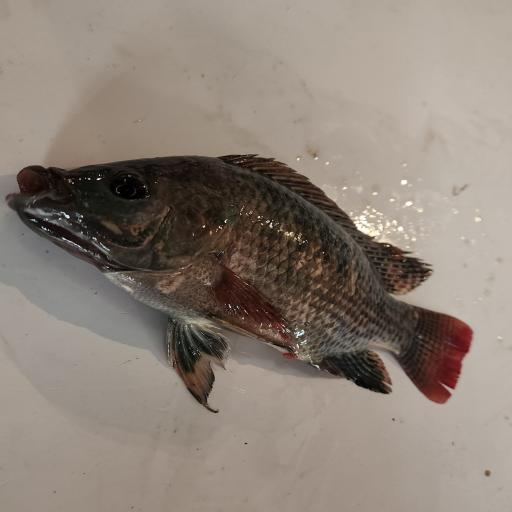Tilapia: (5, 154, 475, 413)
